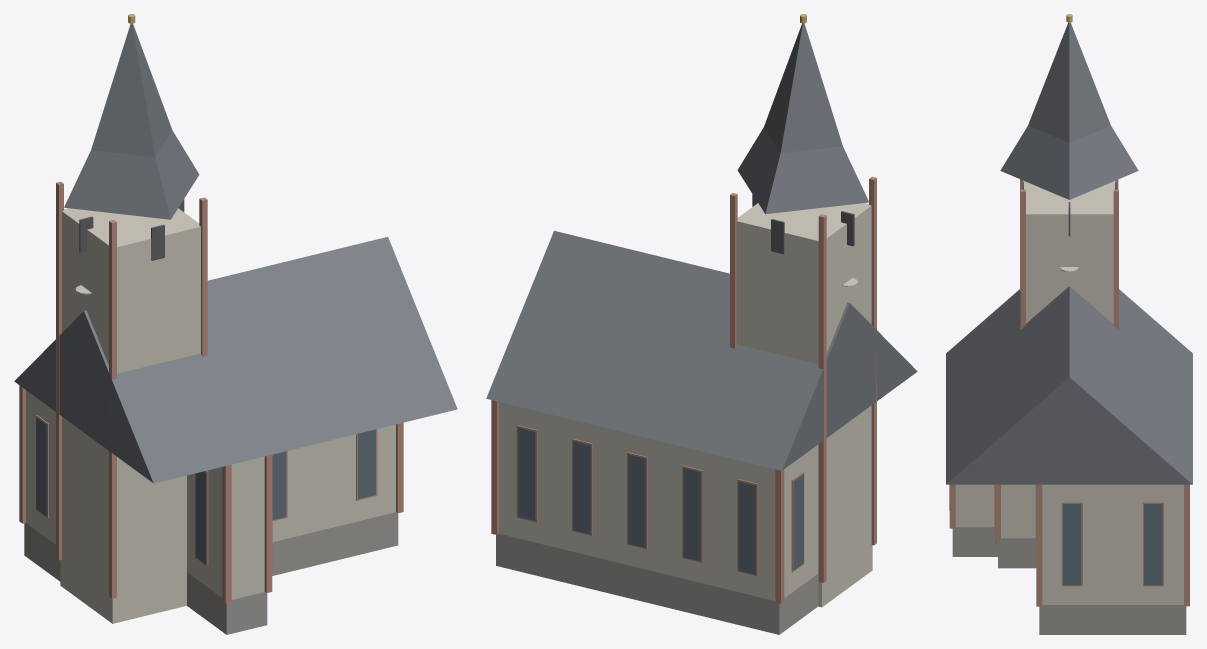
Rendered from landmark-church-sankt-nikolaus.glb.
3 views of the same model, side by side, from view 1: azimuth 30°, elevation 25°; view 2: azimuth 150°, elevation 25°; view 3: azimuth 270°, elevation 25° (orthographic). The views are drawn at different scales.
Parts seen in each view (by area): view 1: building; view 2: building; view 3: building.
Boxes of the visible parts, x1,y1,x2,y2 form: building: [14, 14, 457, 634]; building: [486, 14, 917, 634]; building: [946, 14, 1192, 634].
Size of the model in its own units: 25.1 by 42.8 by 18.72.
